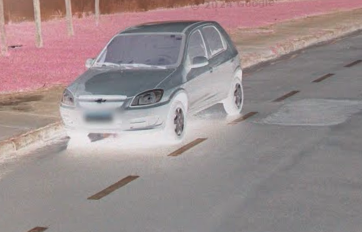car: (57, 17, 249, 150)
